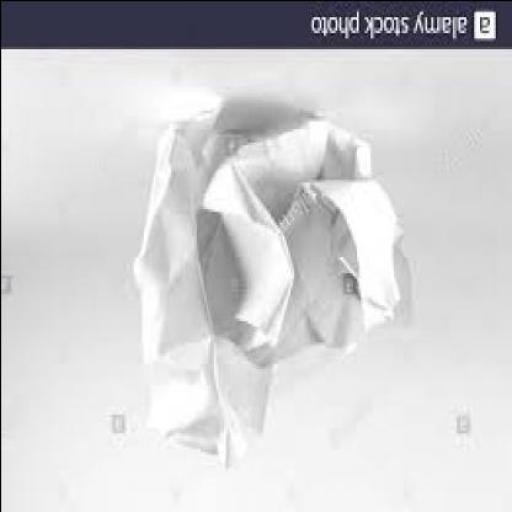paper: (135, 99, 410, 475)
